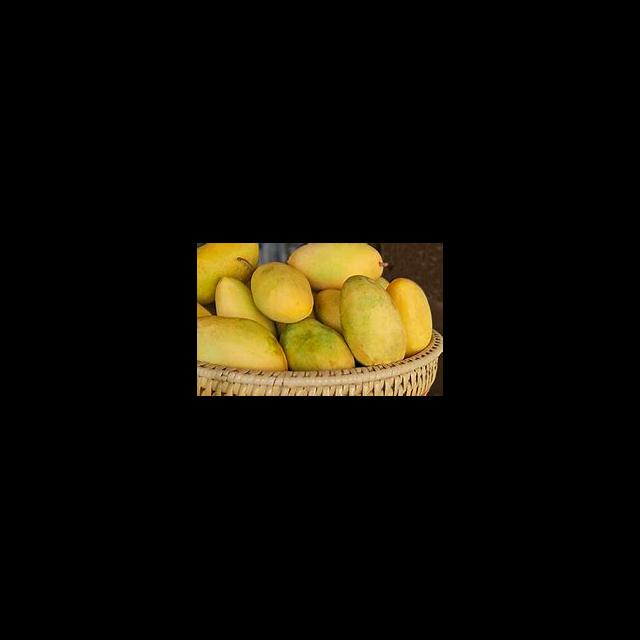mango: (340, 274, 408, 368), (197, 316, 290, 372), (286, 244, 383, 292), (276, 316, 356, 372), (197, 244, 260, 312), (250, 262, 314, 324), (386, 278, 433, 360), (215, 278, 279, 336)
